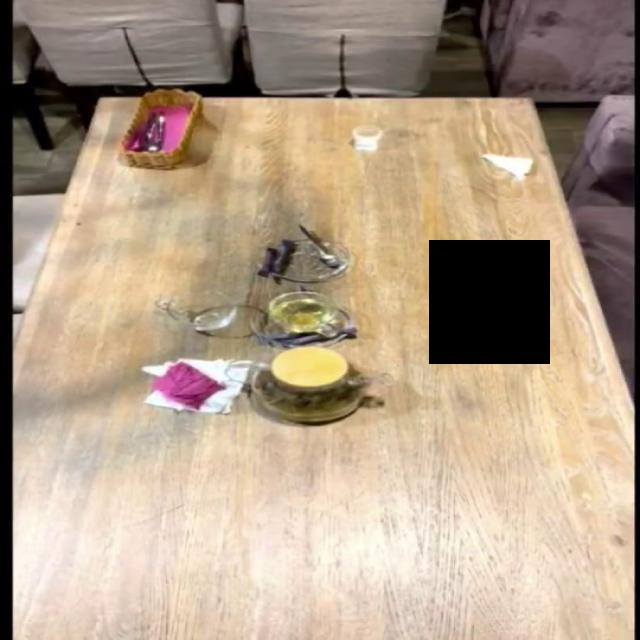tea: (250, 345, 371, 424)
